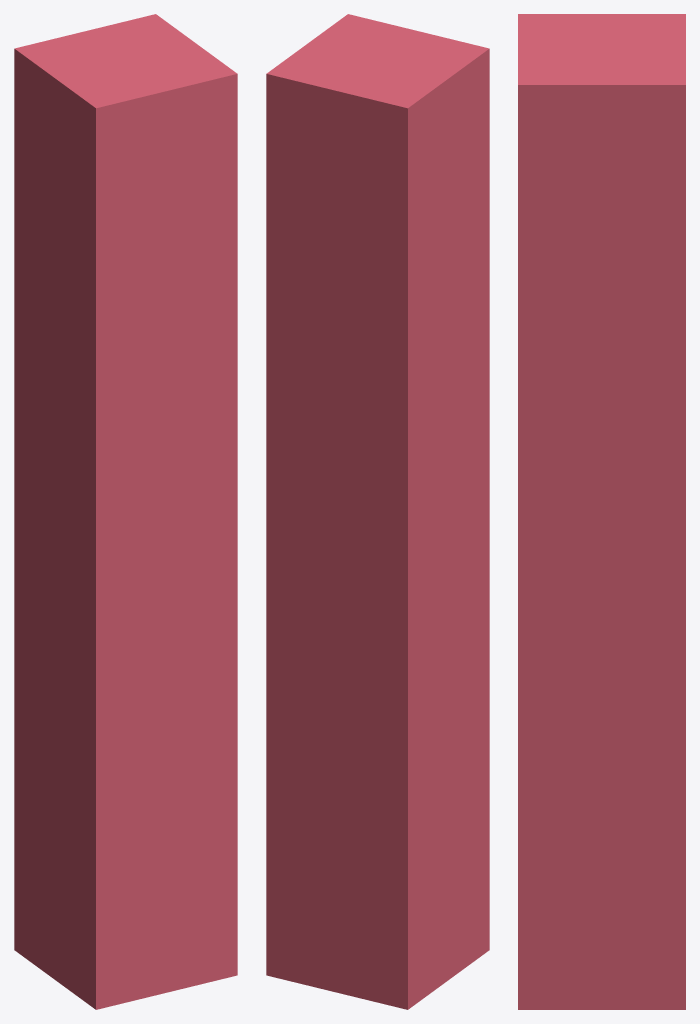
Rendered from stalactite-damaged.glb.
3 views of the same model, side by side, from view 1: azimuth 30°, elevation 25°; view 2: azimuth 150°, elevation 25°; view 3: azimuth 270°, elevation 25° (orthographic). The views are drawn at different scales.
Visible parts, largest first — view 1: Cube.007-rigid, Cube.003-rigid, Cube-rigid, Cube.004-rigid, Cube.002-rigid, Cube.006-rigid, Cube.005-rigid, Cube.001-rigid; view 2: Cube.007-rigid, Cube.003-rigid, Cube-rigid, Cube.004-rigid, Cube.002-rigid, Cube.006-rigid, Cube.005-rigid, Cube.001-rigid; view 3: Cube.006-rigid, Cube.002-rigid, Cube.001-rigid, Cube.005-rigid, Cube-rigid.
Part boxes in pixels (left/top/right/bottom): Cube.007-rigid: left=14, top=388, right=201, bottom=793; Cube.003-rigid: left=14, top=681, right=209, bottom=1009; Cube-rigid: left=14, top=33, right=179, bottom=303; Cube.004-rigid: left=14, top=219, right=185, bottom=408; Cube.002-rigid: left=79, top=14, right=237, bottom=282; Cube.006-rigid: left=185, top=409, right=237, bottom=795; Cube.005-rigid: left=180, top=268, right=237, bottom=414; Cube.001-rigid: left=202, top=794, right=237, bottom=981; Cube.007-rigid: left=316, top=339, right=489, bottom=745; Cube.003-rigid: left=306, top=728, right=489, bottom=1009; Cube-rigid: left=337, top=30, right=489, bottom=278; Cube.004-rigid: left=328, top=244, right=489, bottom=457; Cube.002-rigid: left=266, top=14, right=413, bottom=260; Cube.006-rigid: left=266, top=457, right=328, bottom=748; Cube.005-rigid: left=266, top=243, right=336, bottom=464; Cube.001-rigid: left=266, top=746, right=316, bottom=984; Cube.006-rigid: left=518, top=435, right=685, bottom=825; Cube.002-rigid: left=518, top=46, right=685, bottom=284; Cube.001-rigid: left=518, top=777, right=685, bottom=1009; Cube.005-rigid: left=518, top=258, right=685, bottom=485; Cube-rigid: left=518, top=14, right=685, bottom=51.
Bounding box in the file's own units: 0.2795 × 1.7 × 0.2795.
